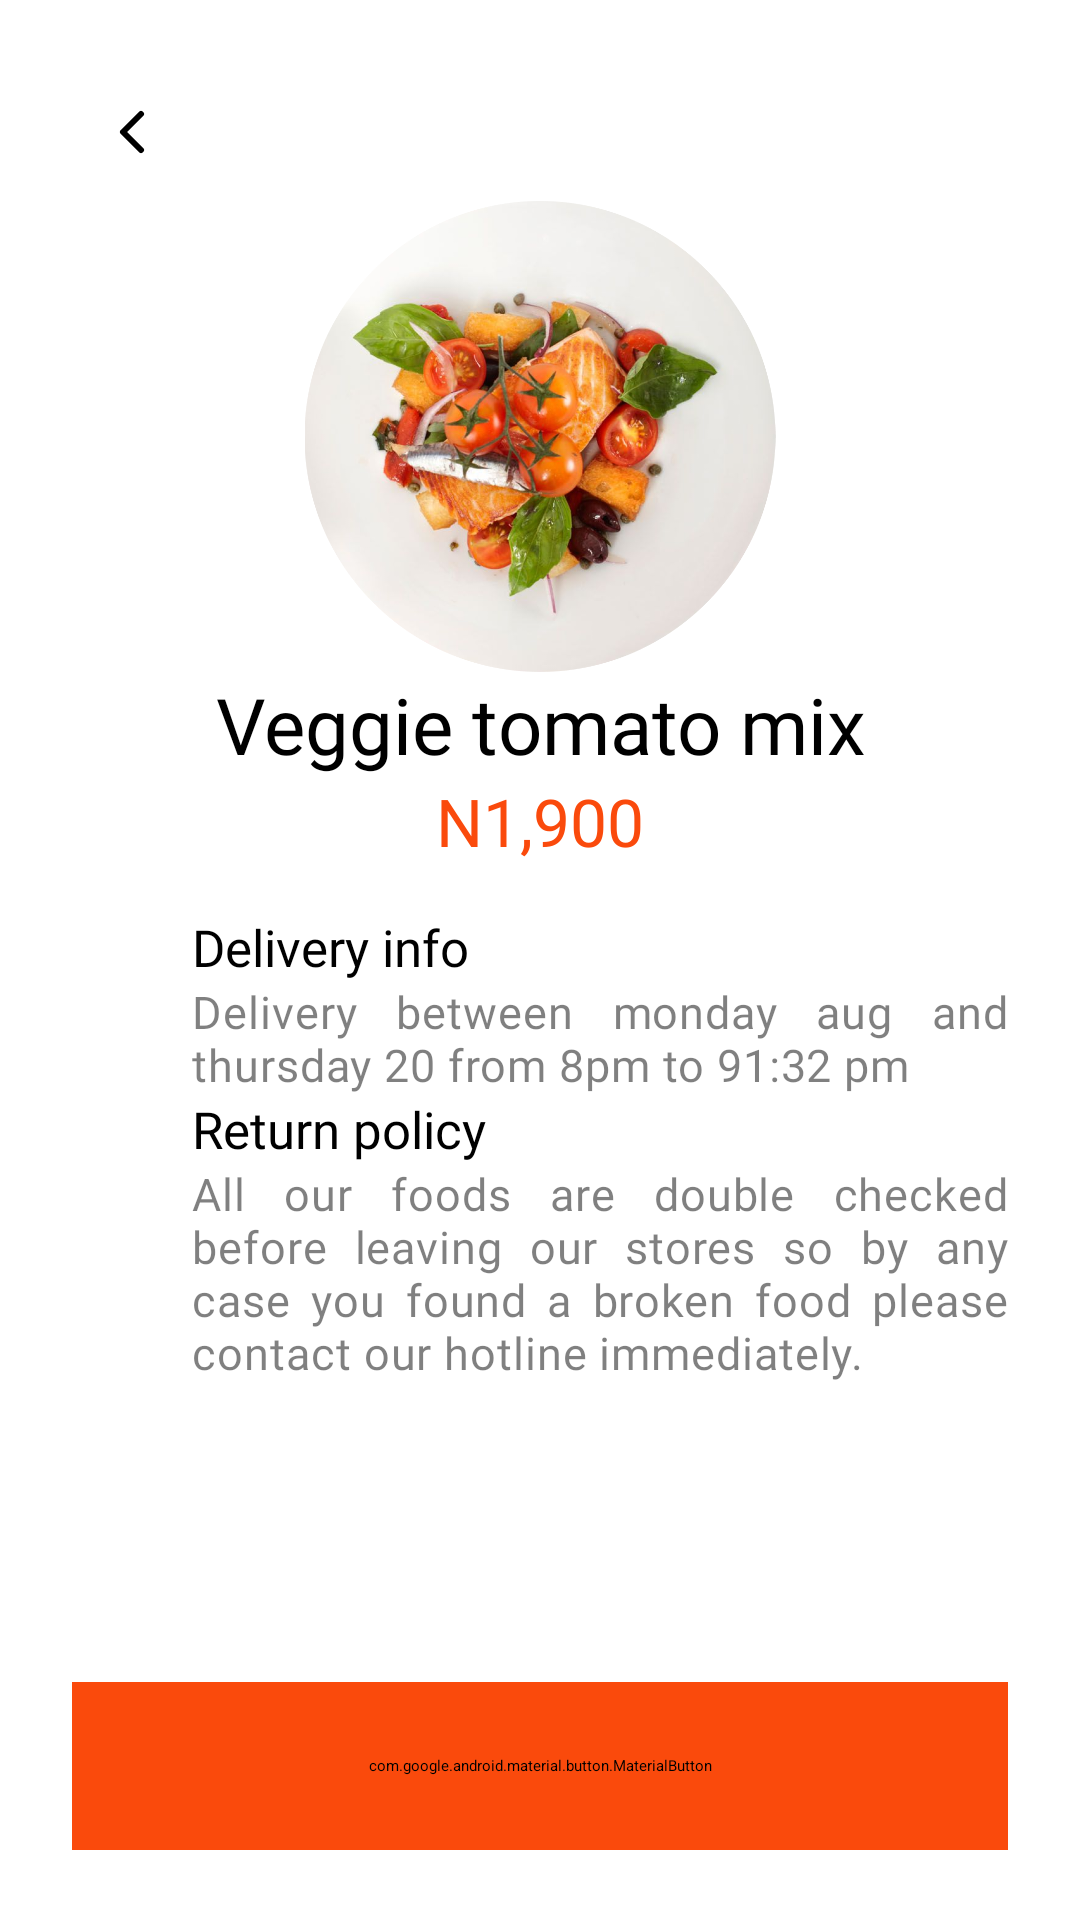

Locate icon controls on the screen. Image size 1080px×1920px, boxes as {"x1": x1, "y1": y1, "x2": x2, "y2": y2}.
back: {"x1": 120, "y1": 111, "x2": 144, "y2": 153}
